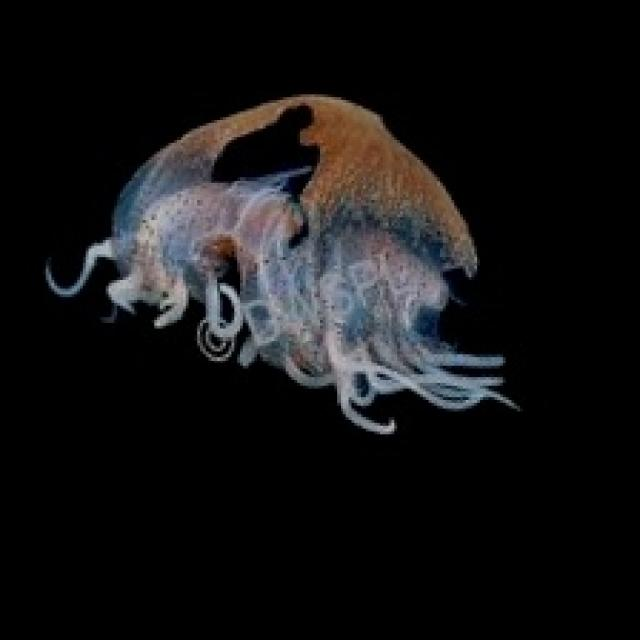Jellyfish: (43, 92, 520, 434)
